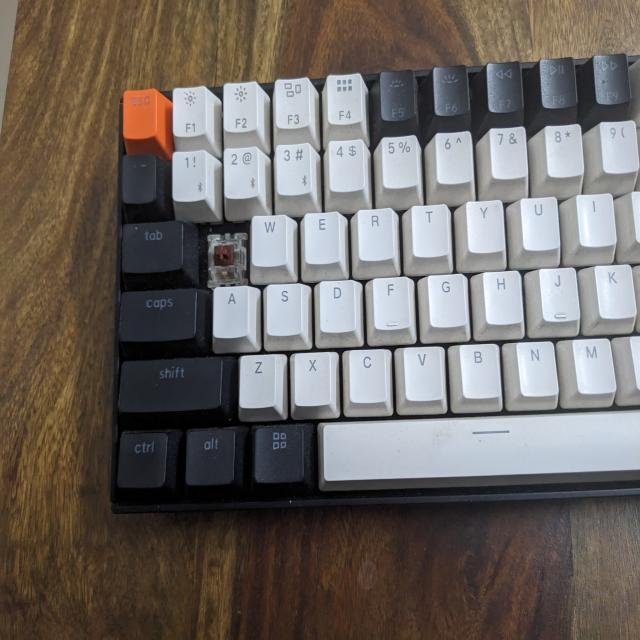key-switch: (204, 228, 246, 278)
